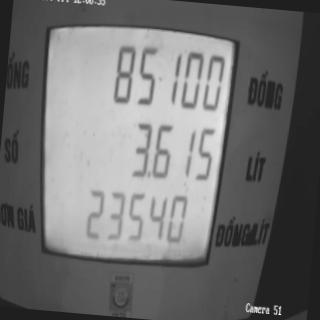screen: (21, 0, 245, 293)
